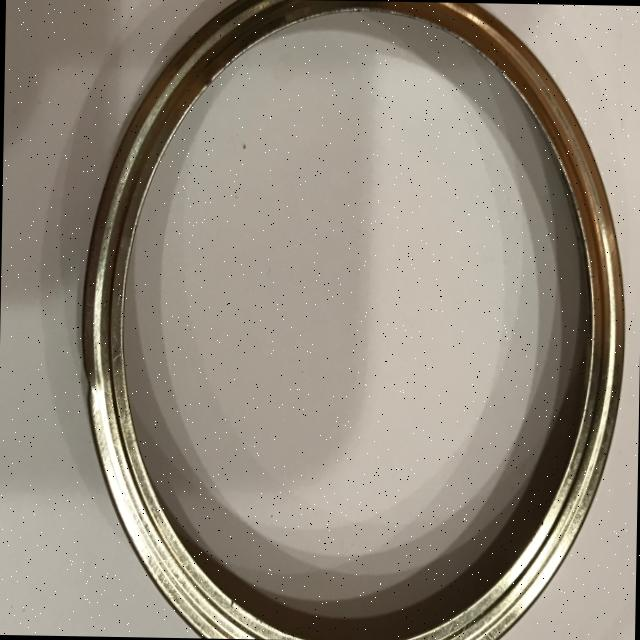metal: (74, 0, 631, 640)
